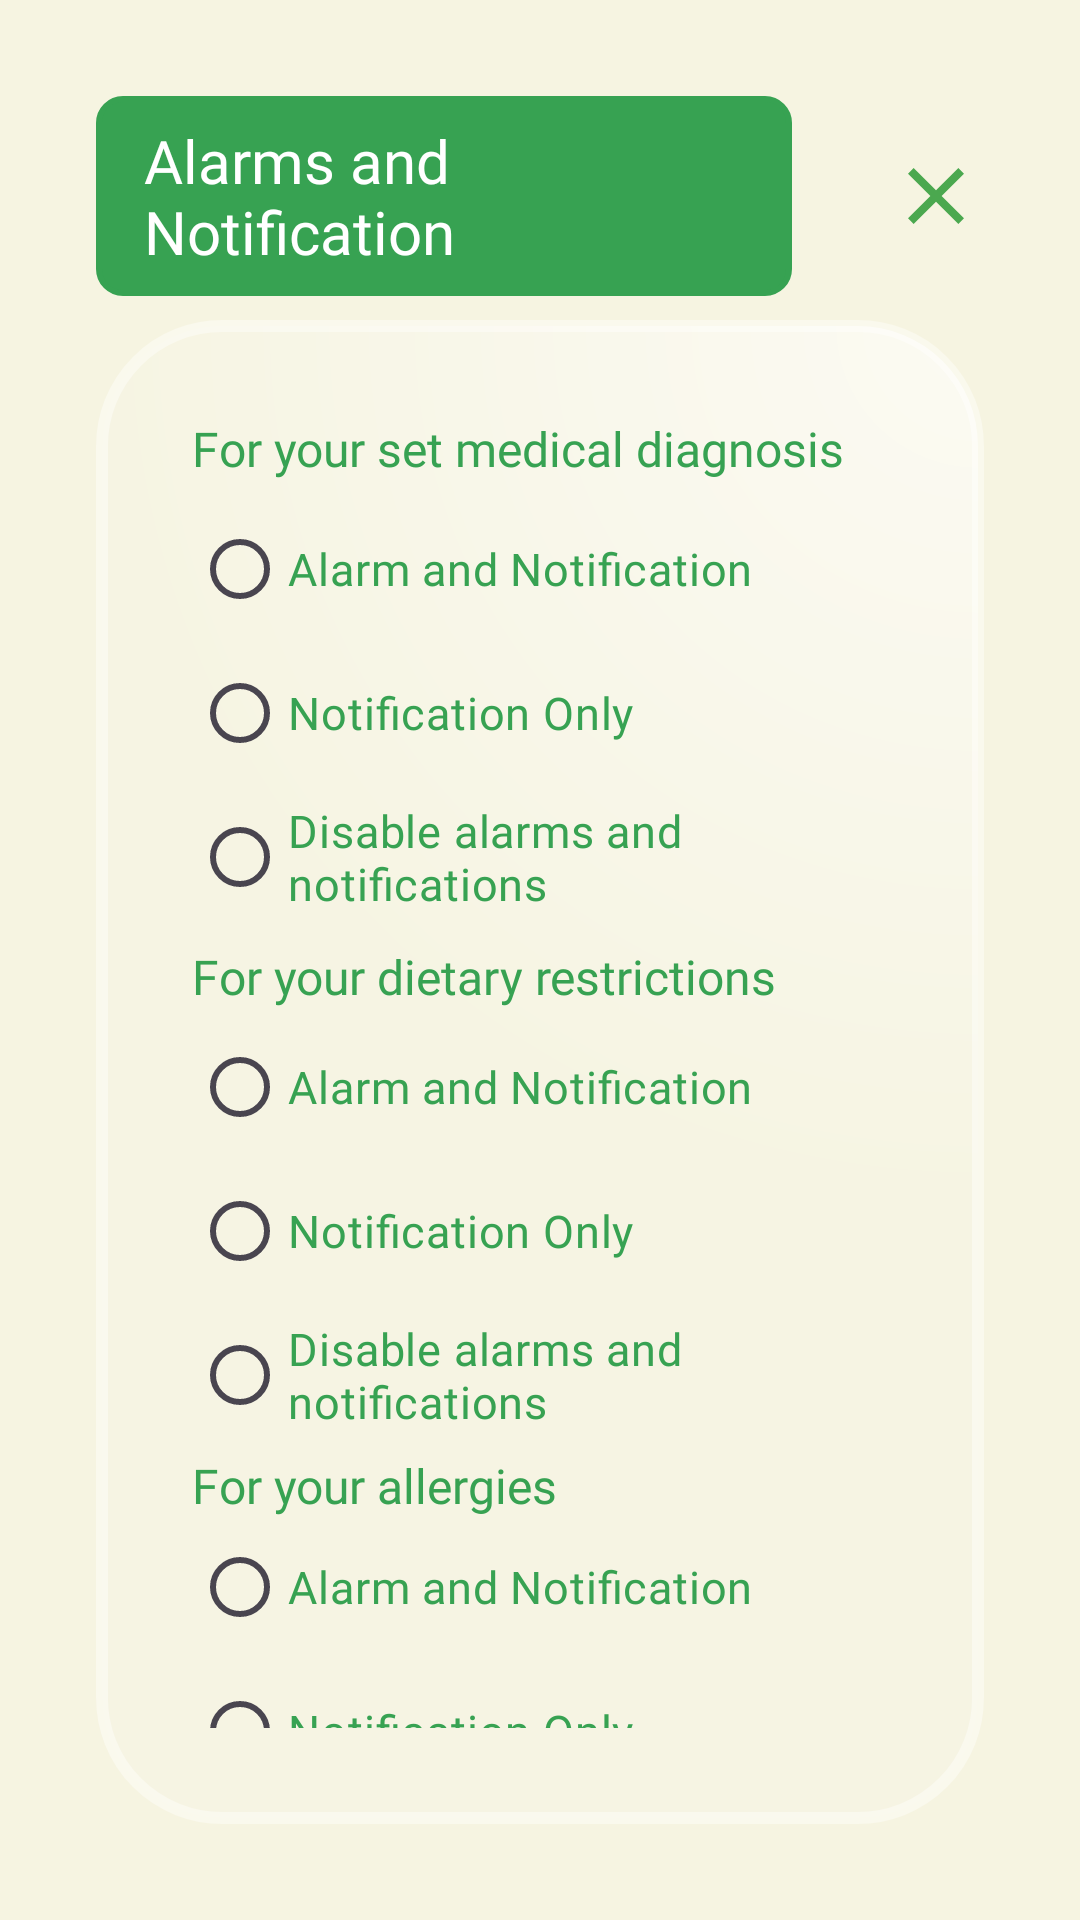

Point at icon controls on the screen. Image size 1080px×1920px, points as (x,y).
close: (936,196)
